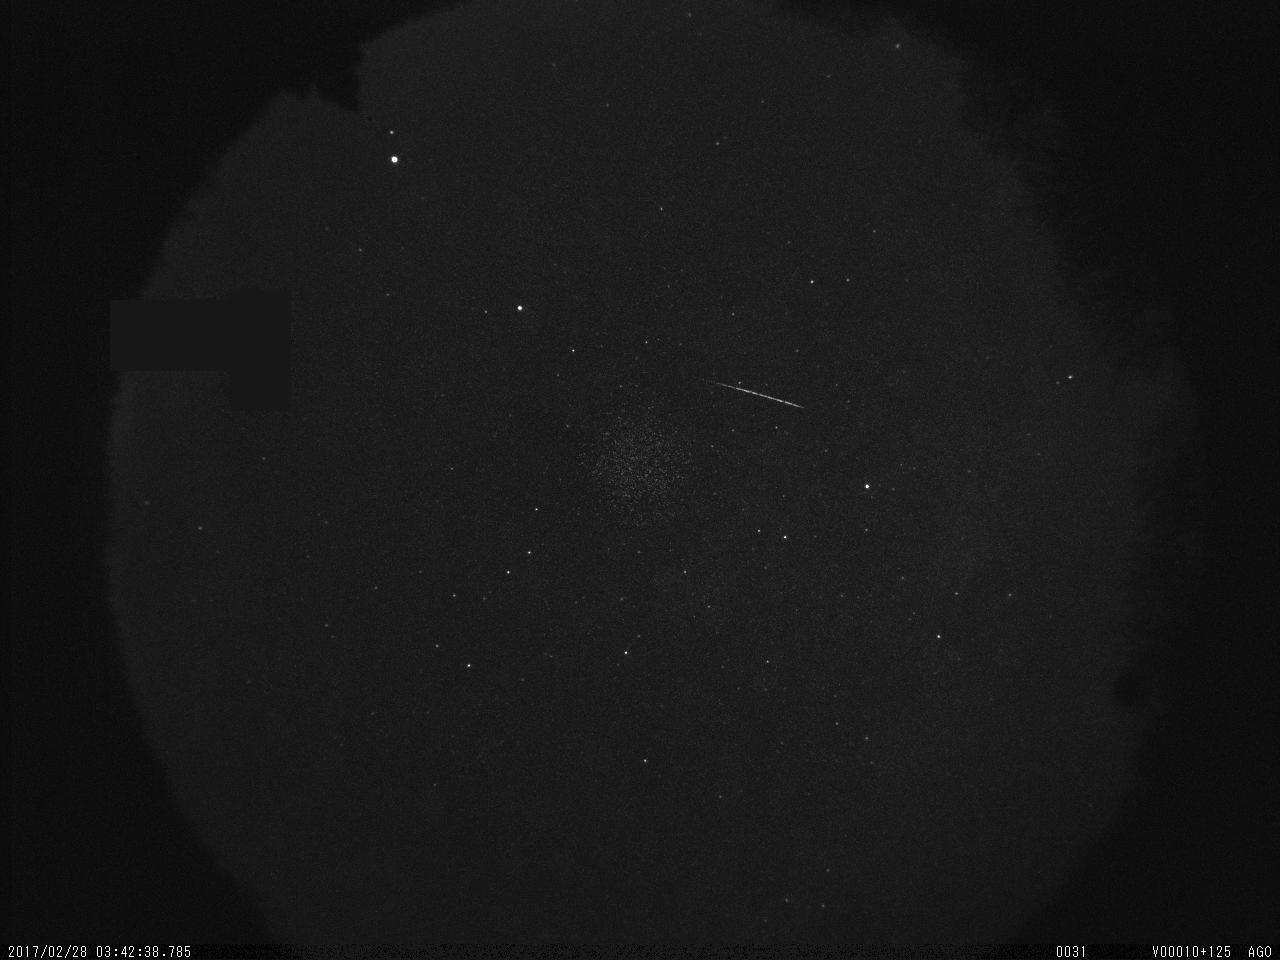meteor: (699, 368, 812, 432)
